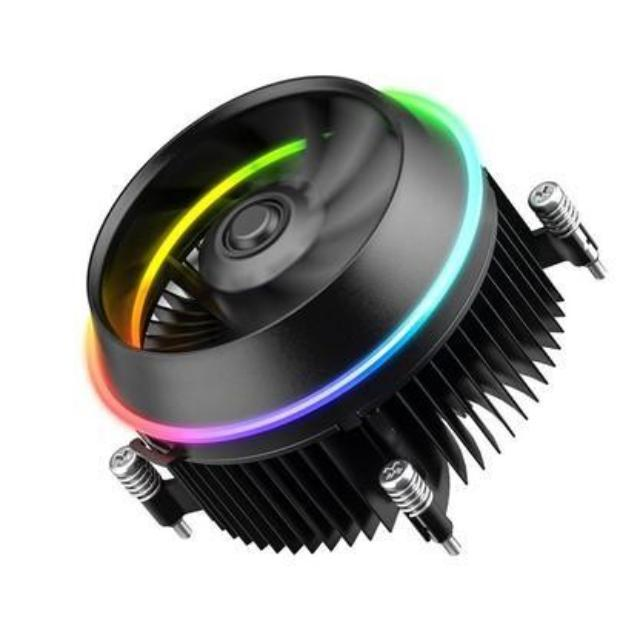CPU_Fan: (84, 70, 578, 547)
